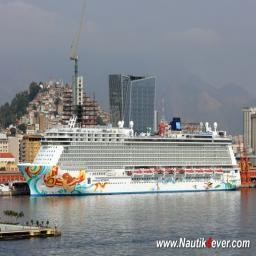cruises: (17, 115, 242, 199)
